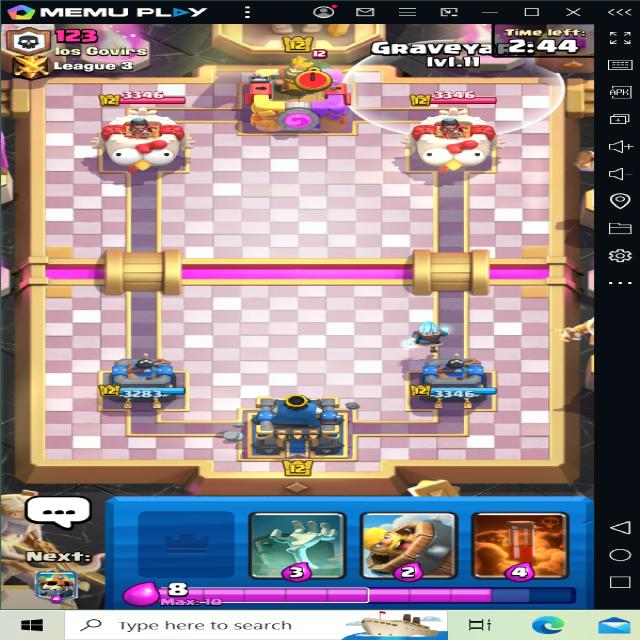bandit: (301, 51, 348, 89)
